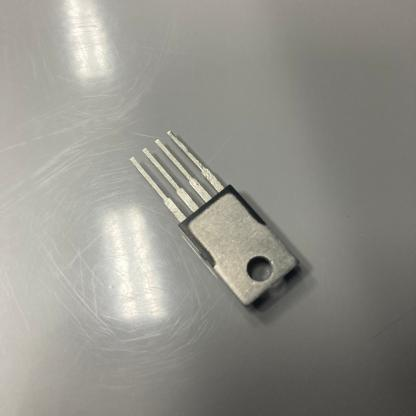SP0000012: (73, 94, 355, 357)
